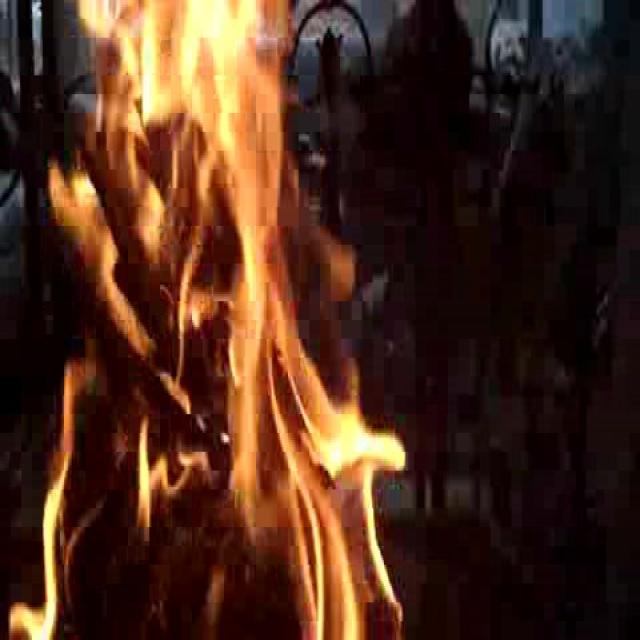Fire: (3, 7, 393, 638)
